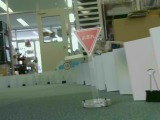stop: (73, 26, 102, 57)
